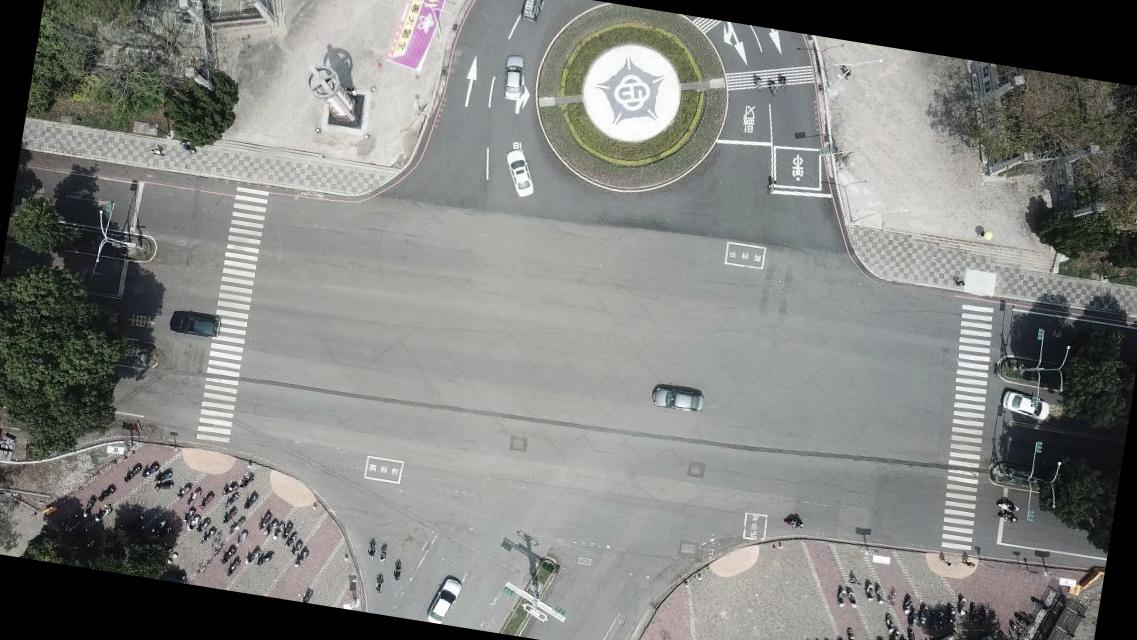vehicle: (500, 145, 542, 200), (422, 574, 464, 626), (166, 306, 225, 342), (998, 388, 1056, 422), (650, 383, 708, 416), (500, 54, 528, 104), (515, 0, 548, 26)
